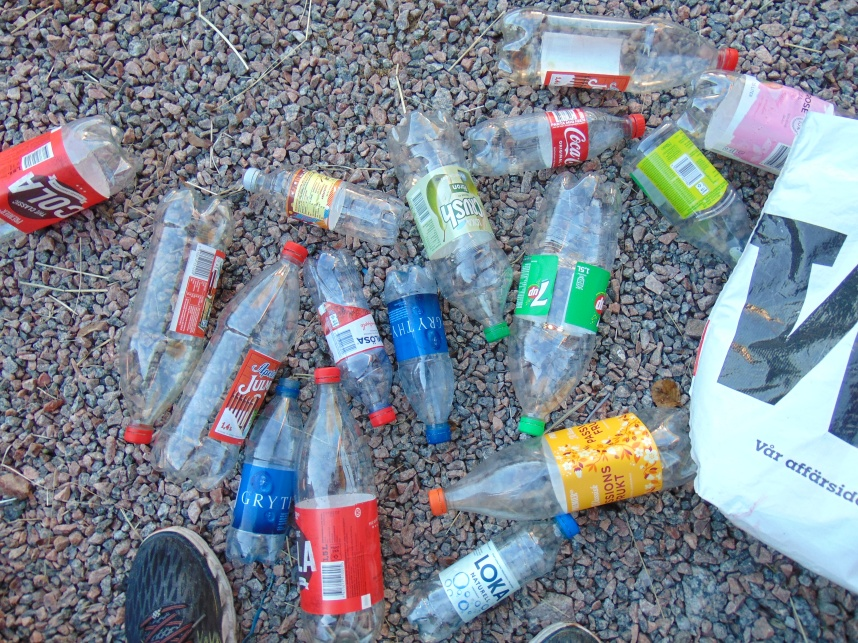plastic_bottle: (151, 242, 314, 490), (506, 173, 626, 437), (429, 407, 697, 520), (386, 107, 511, 338), (124, 185, 228, 454), (298, 364, 380, 643), (398, 515, 578, 642), (496, 10, 740, 92), (1, 117, 137, 256), (627, 124, 751, 268), (303, 250, 396, 427), (683, 71, 843, 171), (227, 379, 305, 568), (239, 167, 403, 246), (384, 264, 454, 441), (464, 110, 650, 172)
